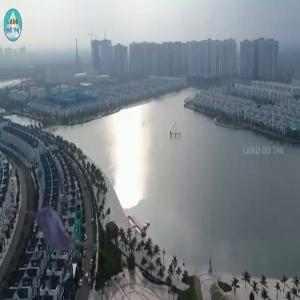drone: (13, 175, 124, 286)
